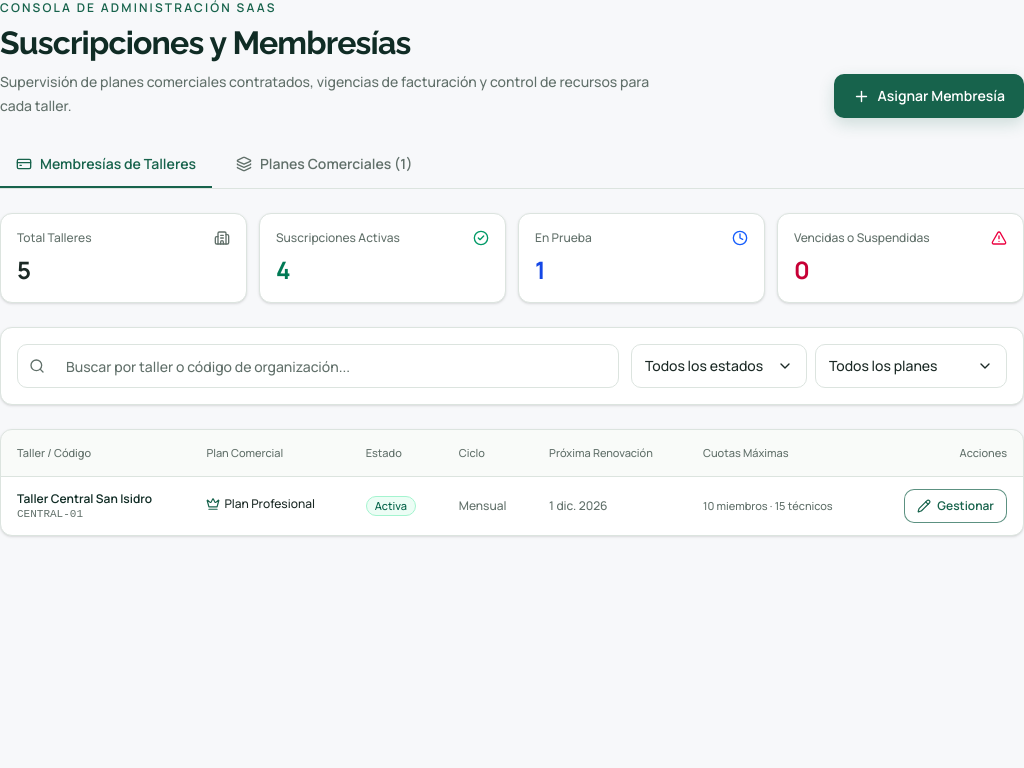
it: PlatformSubscriptionsPage › abre el modal de gestión de suscripción al hacer clic en Gestionar
Step 1. Click the button "Gestionar" → (956, 506), box [904,489,1007,523]
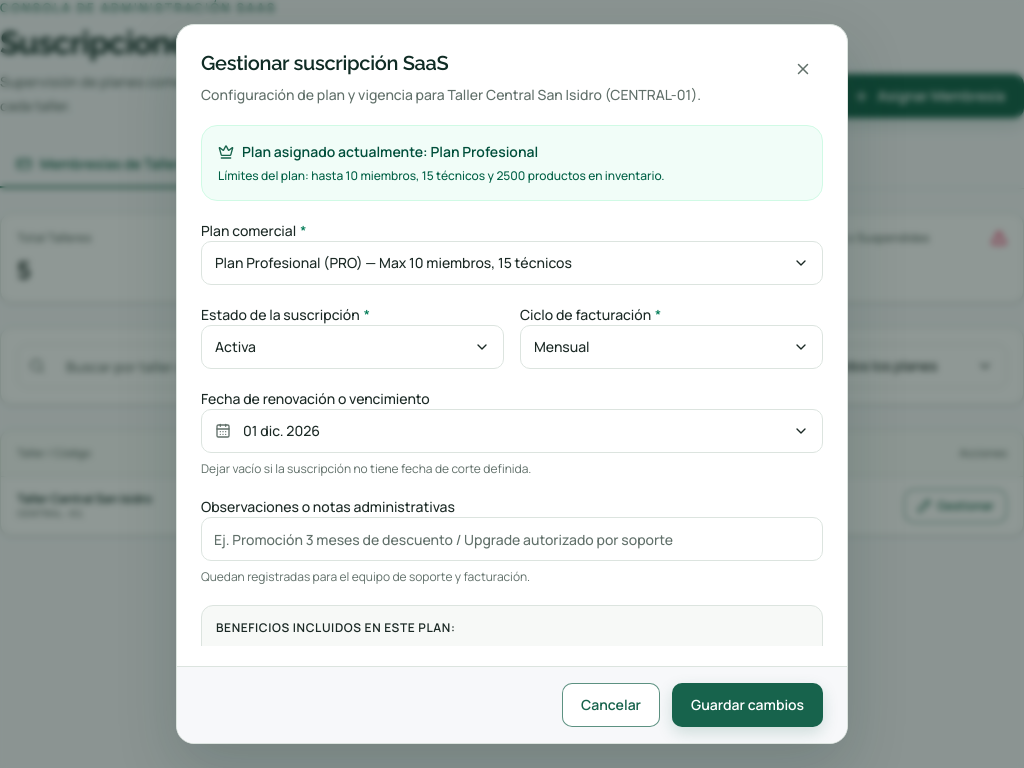
Check: the heading "Gestionar suscripción SaaS" is shown, box [201,51,448,75]
Check: the text "Configuración de plan y vigencia para Taller Central San Isidro" is shown, box [201,85,701,104]
